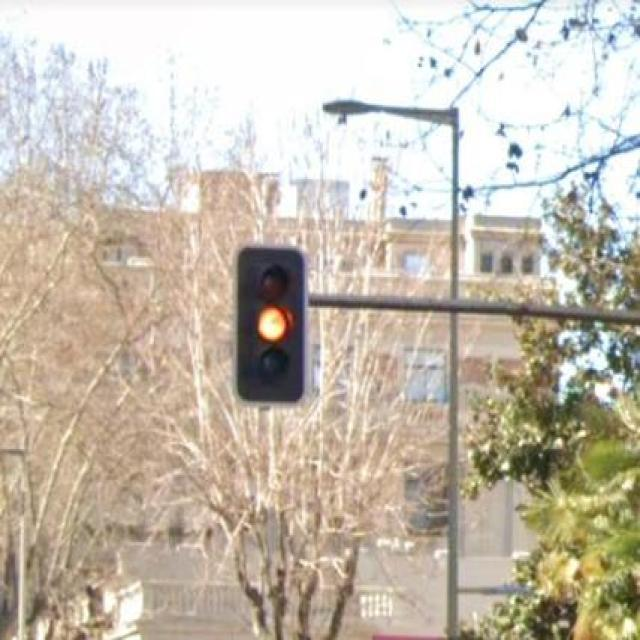yellow_light: (253, 251, 293, 397)
